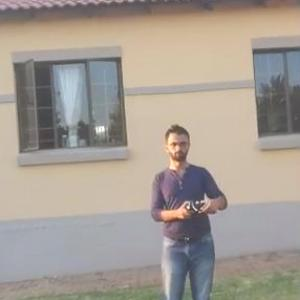follow: (144, 117, 238, 299)
